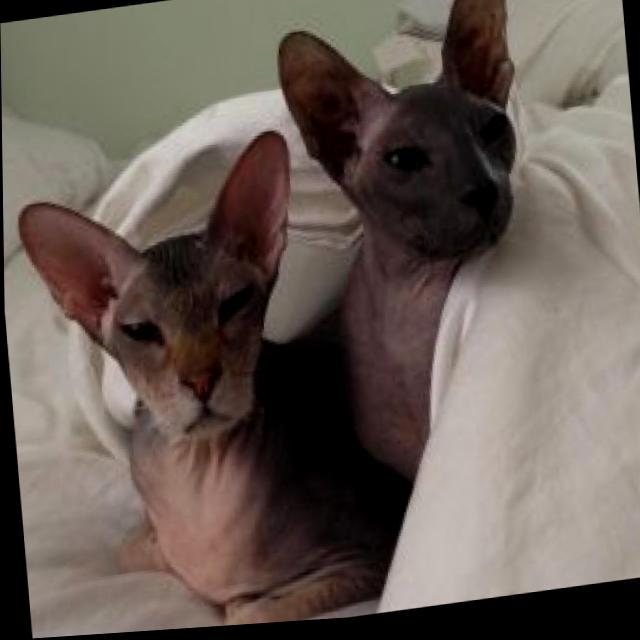Sphynx: (8, 117, 408, 640), (266, 0, 546, 494)
